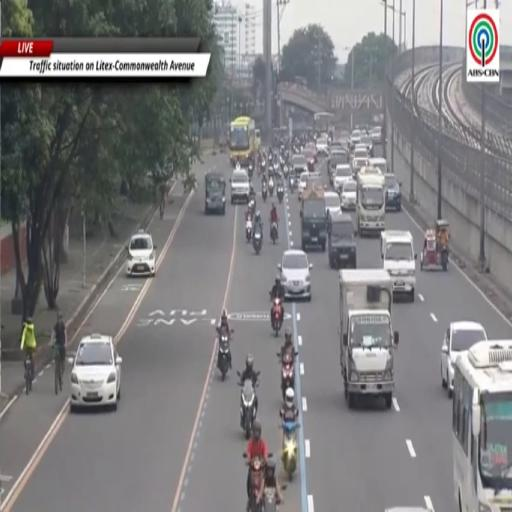bus: (453, 341, 511, 511), (357, 168, 385, 235), (230, 117, 255, 166), (314, 112, 335, 134)
car: (68, 334, 121, 411), (441, 322, 488, 397), (278, 249, 312, 300), (328, 213, 356, 268), (126, 230, 156, 277), (230, 169, 250, 204), (328, 149, 347, 184), (385, 174, 401, 211), (340, 180, 356, 211), (334, 164, 352, 191), (324, 191, 341, 215), (369, 157, 390, 174), (302, 148, 317, 171), (291, 154, 307, 174), (298, 171, 309, 199), (307, 173, 323, 188), (360, 135, 372, 155), (316, 138, 329, 155), (349, 130, 361, 148), (354, 143, 369, 157), (385, 507, 432, 511), (370, 126, 381, 143)
motorcycle: (243, 454, 264, 511), (282, 422, 299, 481), (277, 351, 297, 401), (240, 379, 256, 439), (218, 330, 233, 380), (271, 297, 282, 337), (261, 488, 279, 511), (253, 230, 262, 254), (246, 220, 253, 243), (271, 222, 278, 244), (277, 184, 284, 203), (289, 175, 296, 193), (248, 200, 255, 217), (262, 182, 267, 202), (268, 178, 273, 196), (248, 163, 253, 180), (283, 165, 288, 178), (261, 158, 266, 171), (274, 162, 279, 173)
tricycle: (421, 220, 449, 270)
truck: (340, 269, 398, 408), (381, 231, 416, 301), (300, 184, 327, 251), (357, 172, 385, 235)
